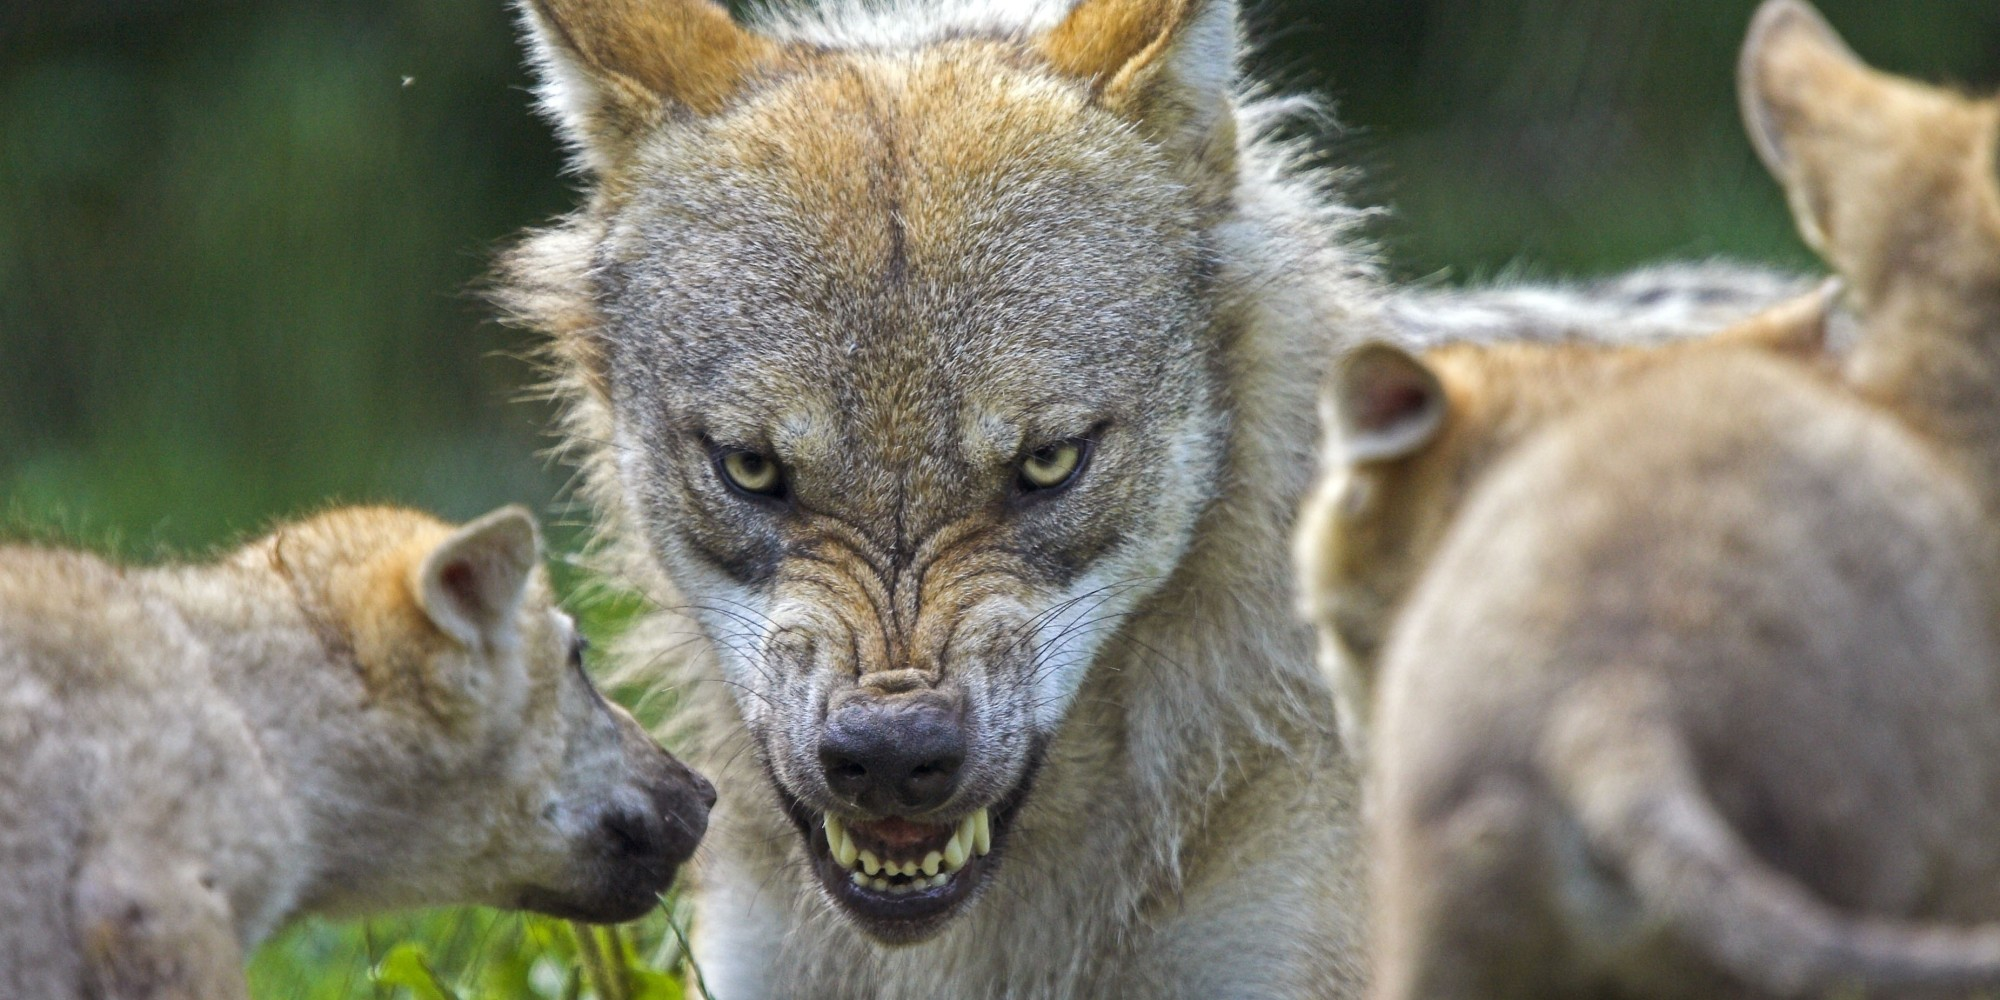dog: (1353, 5, 1989, 996), (1, 503, 696, 995)
wolf: (554, 9, 1431, 994)
